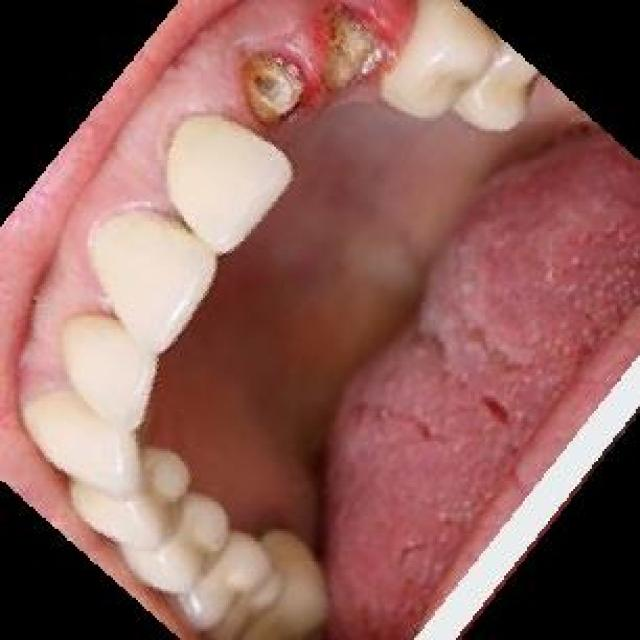caries: (240, 44, 312, 132), (317, 16, 386, 96)
